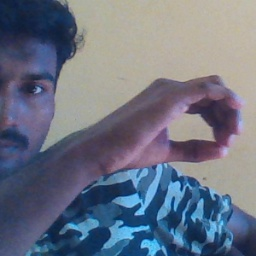O: (95, 57, 248, 185)
